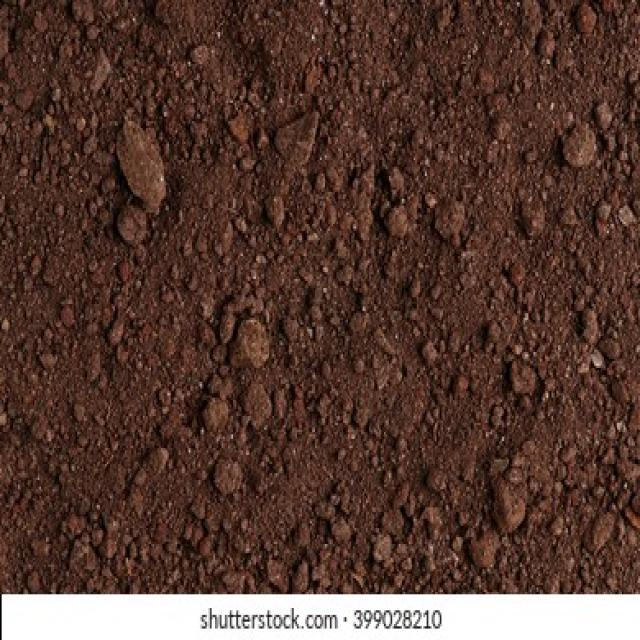Red Soil: (119, 81, 560, 538)
